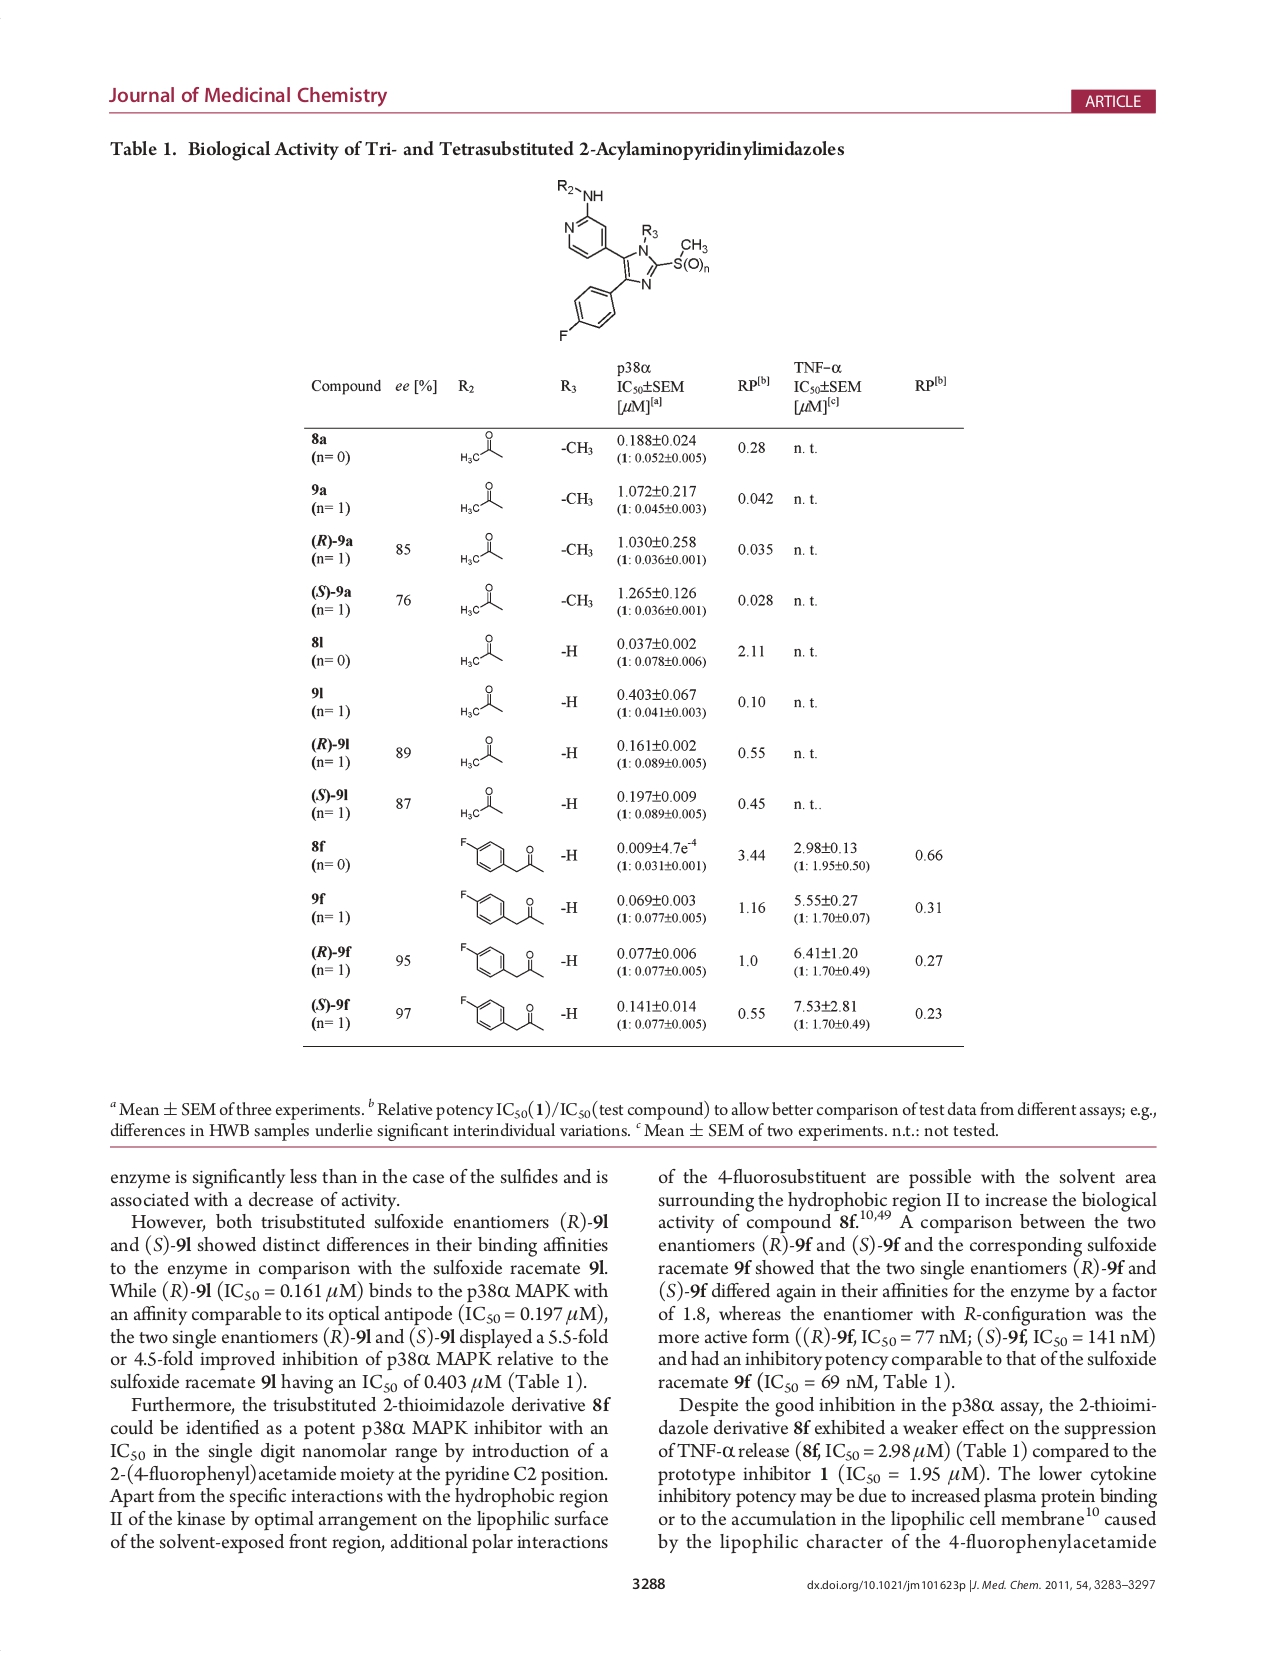exist_molecular: (545, 172, 715, 351), (452, 934, 543, 981), (457, 831, 547, 878), (453, 992, 548, 1036), (456, 884, 547, 930), (456, 629, 507, 670), (459, 580, 507, 620), (457, 527, 504, 567), (460, 733, 505, 773), (457, 682, 503, 721), (456, 428, 504, 464), (457, 479, 504, 515), (459, 785, 503, 819)
